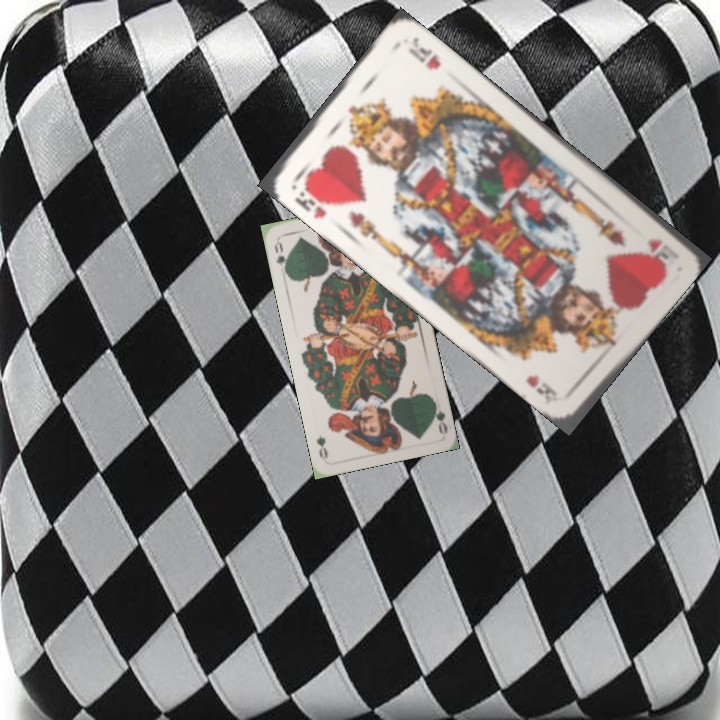GO: (428, 396, 450, 436), (270, 238, 290, 276)
HK: (290, 179, 338, 221), (643, 234, 680, 263)
